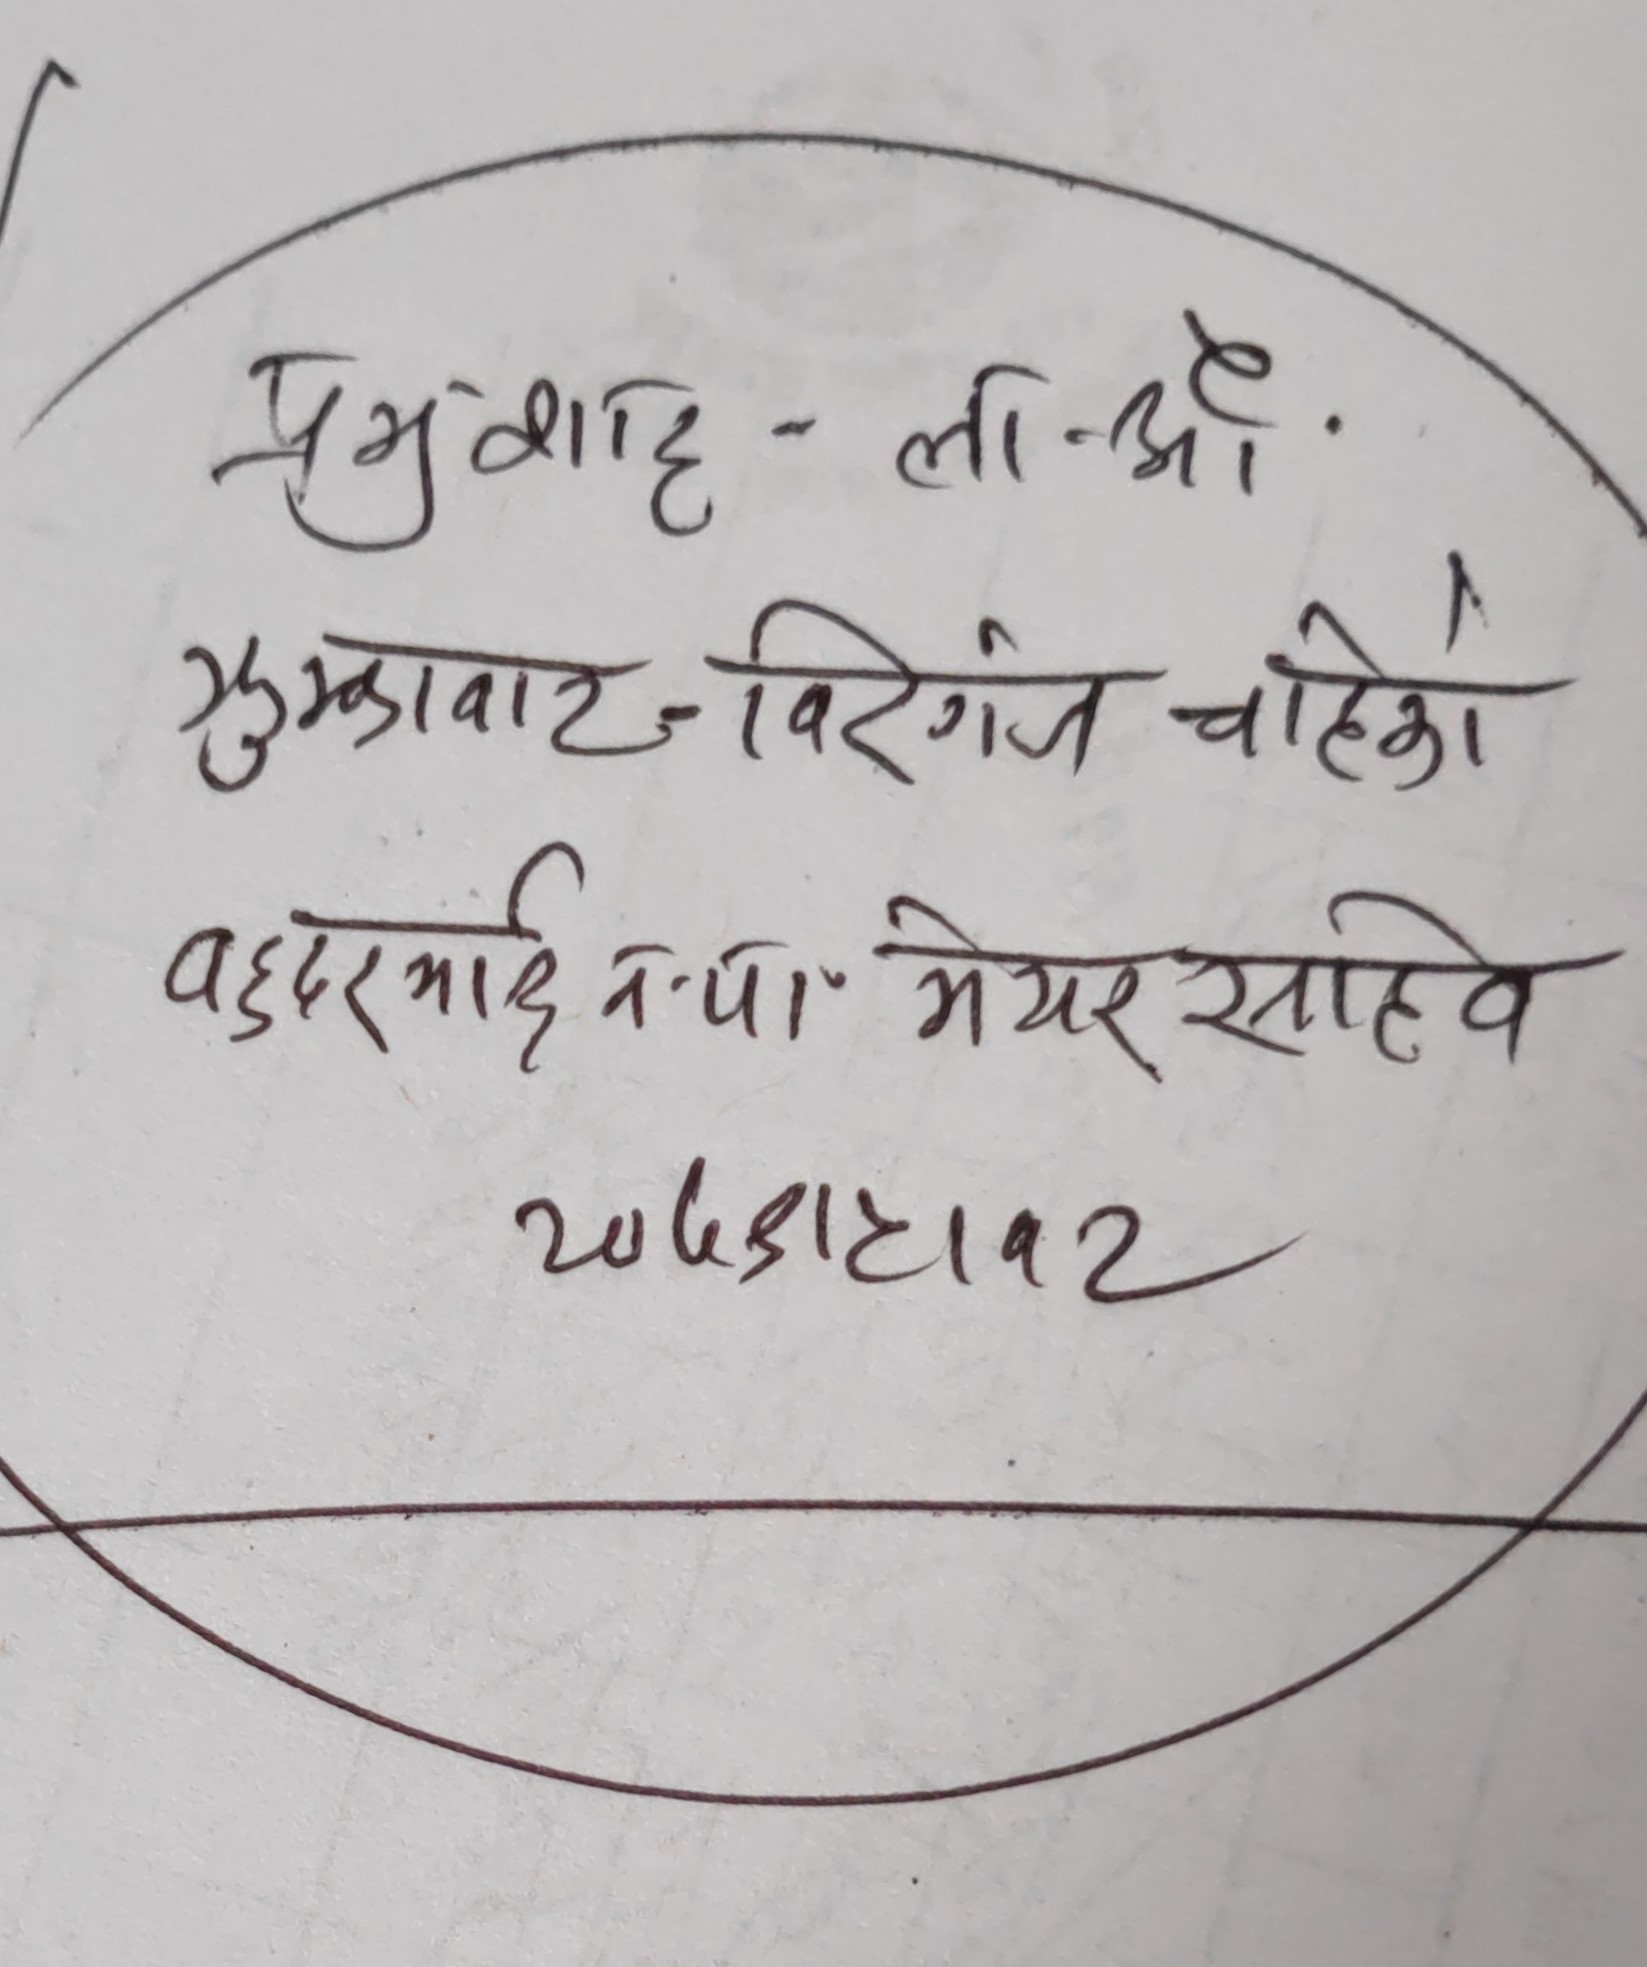text: (507, 1145, 1281, 1323), (201, 345, 729, 555), (149, 845, 582, 1072), (178, 613, 649, 789), (1168, 547, 1510, 789), (887, 309, 1288, 510), (719, 591, 1123, 779), (1185, 885, 1572, 1077), (877, 895, 1157, 1090), (587, 915, 855, 1059)
